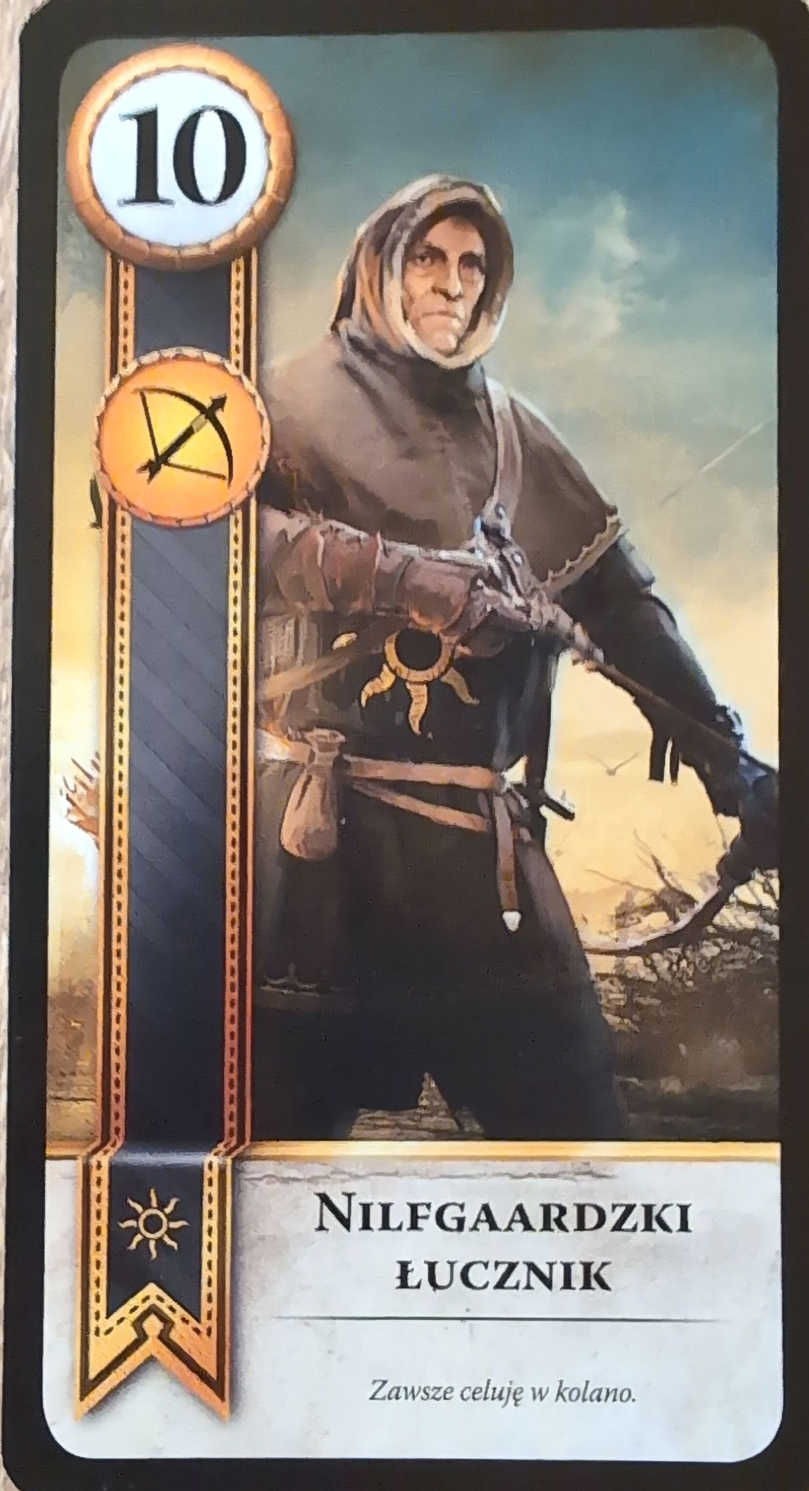10: (63, 38, 298, 274)
lucznik: (87, 343, 273, 531)
